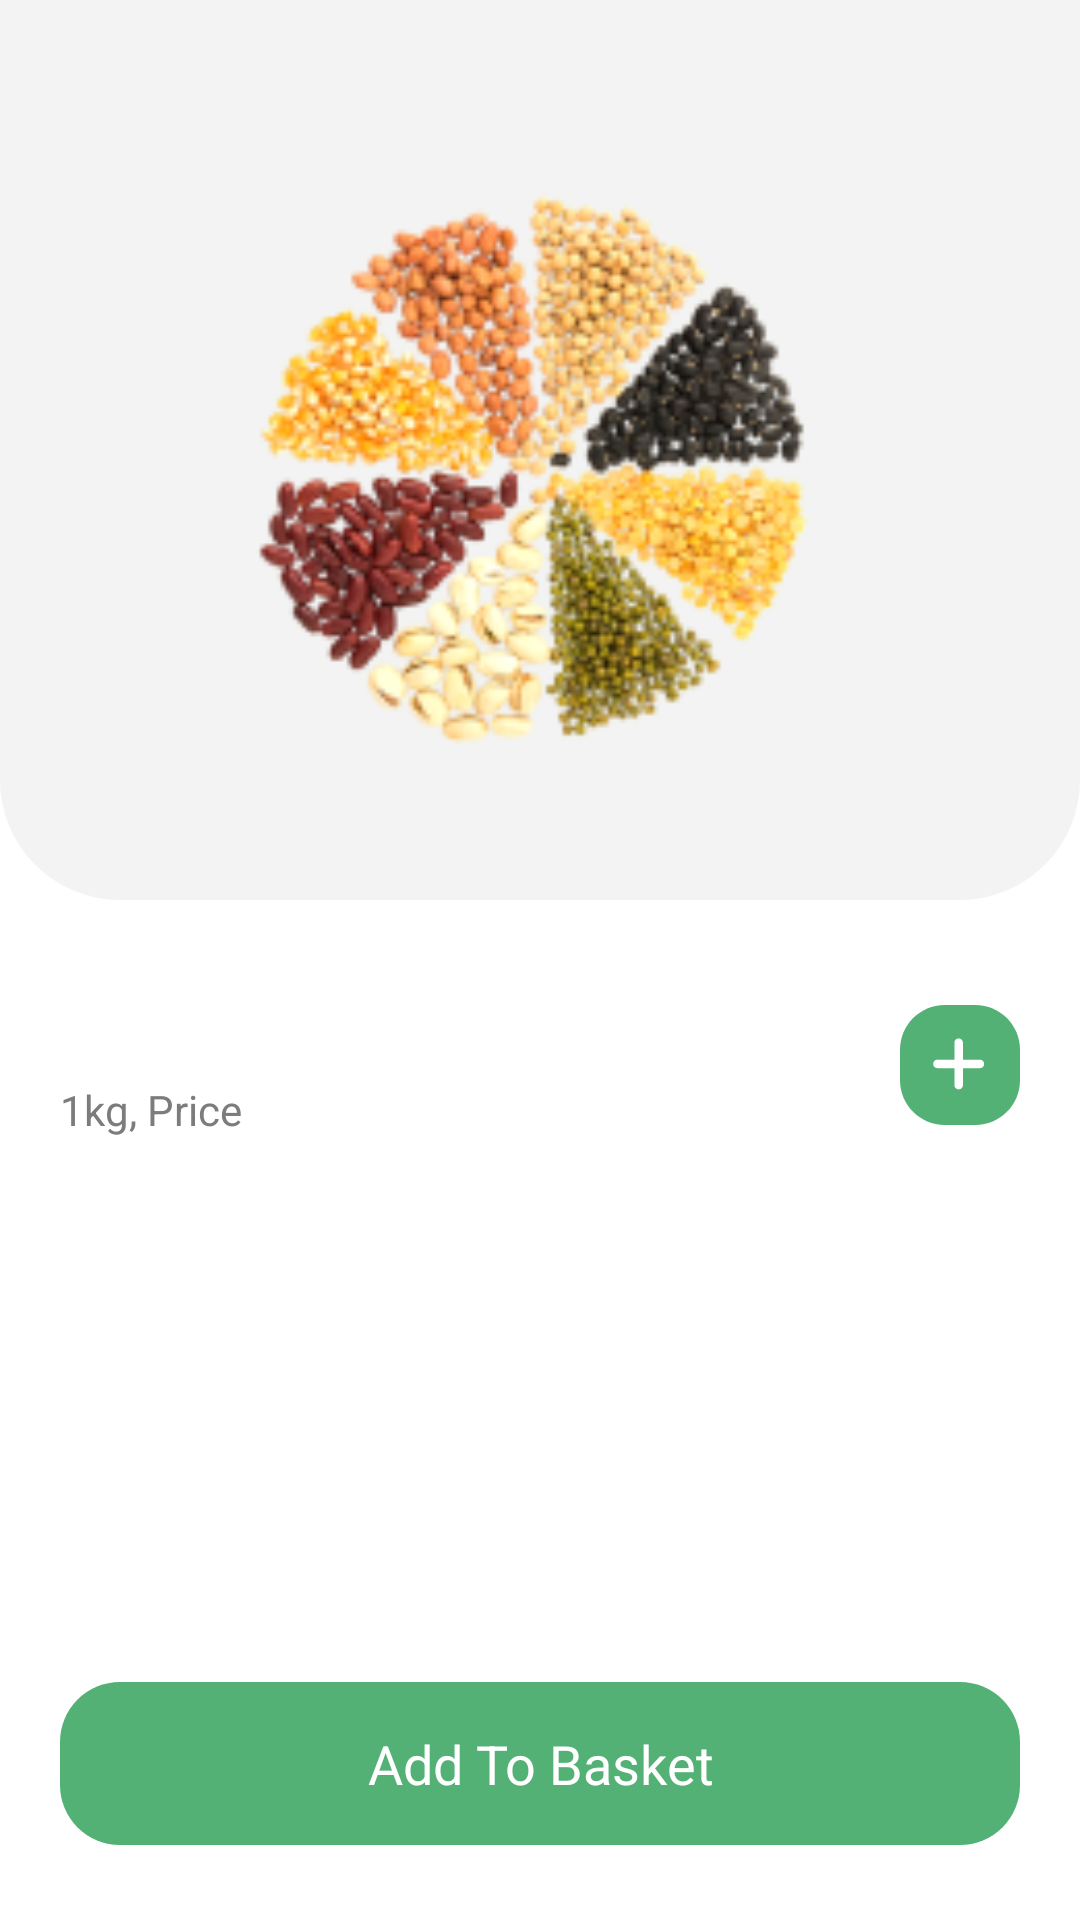

Point at icon controls on the screen. Image size 1080px x 1920px, points as (x=x, y=y).
plus: (x=960, y=1065)
